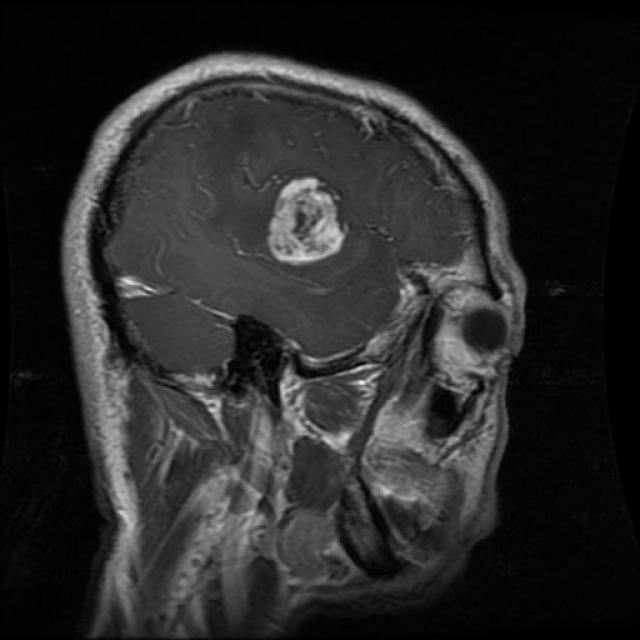eye: (248, 159, 373, 284), (422, 263, 530, 399)
